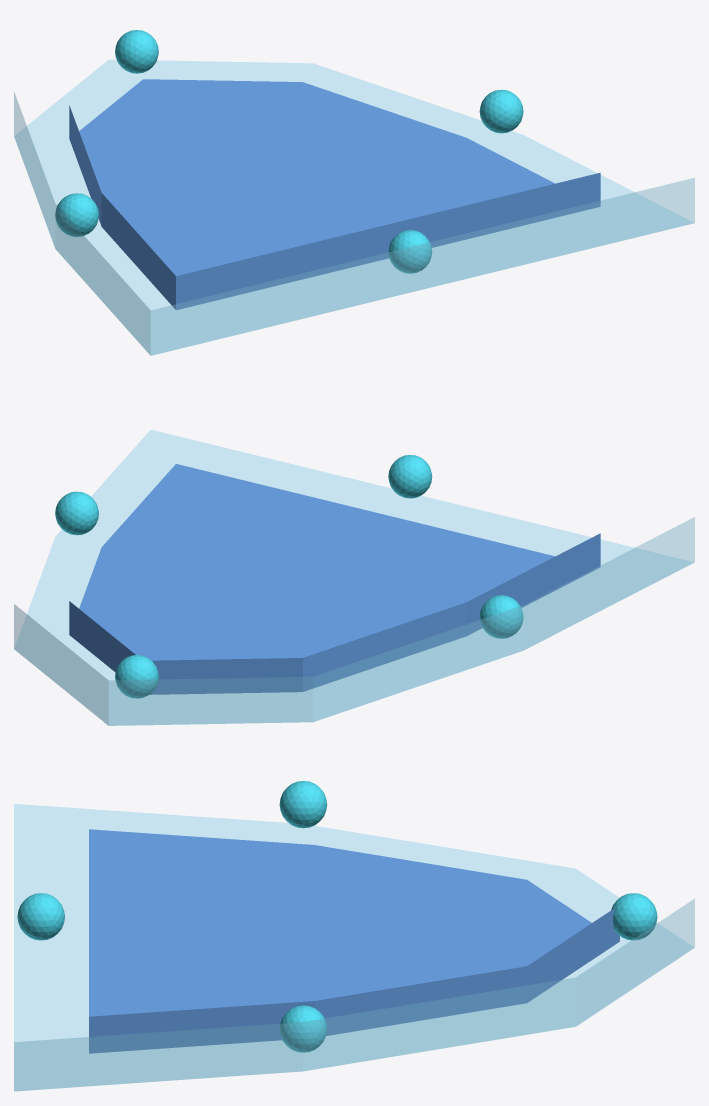
The model's file is 05-escudo-cibernetico.glb.
3 views of the same model, one above another, from view 1: azimuth 30°, elevation 25°; view 2: azimuth 150°, elevation 25°; view 3: azimuth 270°, elevation 25° (orthographic). The views are drawn at different scales.
Parts seen in each view (by area): view 1: part_001, part_000, part_004, part_003, part_002, part_005; view 2: part_001, part_000, part_003, part_005, part_002, part_004; view 3: part_001, part_000, part_005, part_002, part_003, part_004.
Boxes of the visible parts, box(x1,y1,x2,y2) form: part_001: box(69, 79, 600, 310); part_000: box(14, 60, 694, 355); part_004: box(115, 30, 158, 73); part_003: box(479, 89, 523, 133); part_002: box(55, 193, 98, 236); part_005: box(388, 230, 432, 273); part_001: box(69, 464, 600, 694); part_000: box(14, 430, 694, 725); part_003: box(55, 491, 98, 535); part_005: box(388, 455, 432, 498); part_002: box(479, 595, 523, 638); part_004: box(115, 655, 158, 698); part_001: box(89, 829, 619, 1053); part_000: box(14, 804, 694, 1091); part_005: box(17, 893, 64, 940); part_002: box(279, 781, 327, 828); part_003: box(279, 1005, 326, 1052); part_004: box(611, 893, 657, 940).
Bounding box in the file's own units: 2 × 0.17 × 2.
